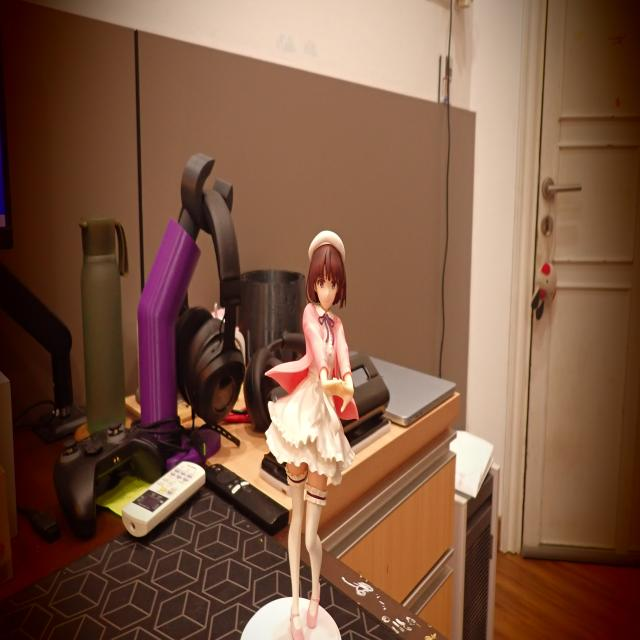My-pink-anime-figure: (266, 231, 357, 639)
